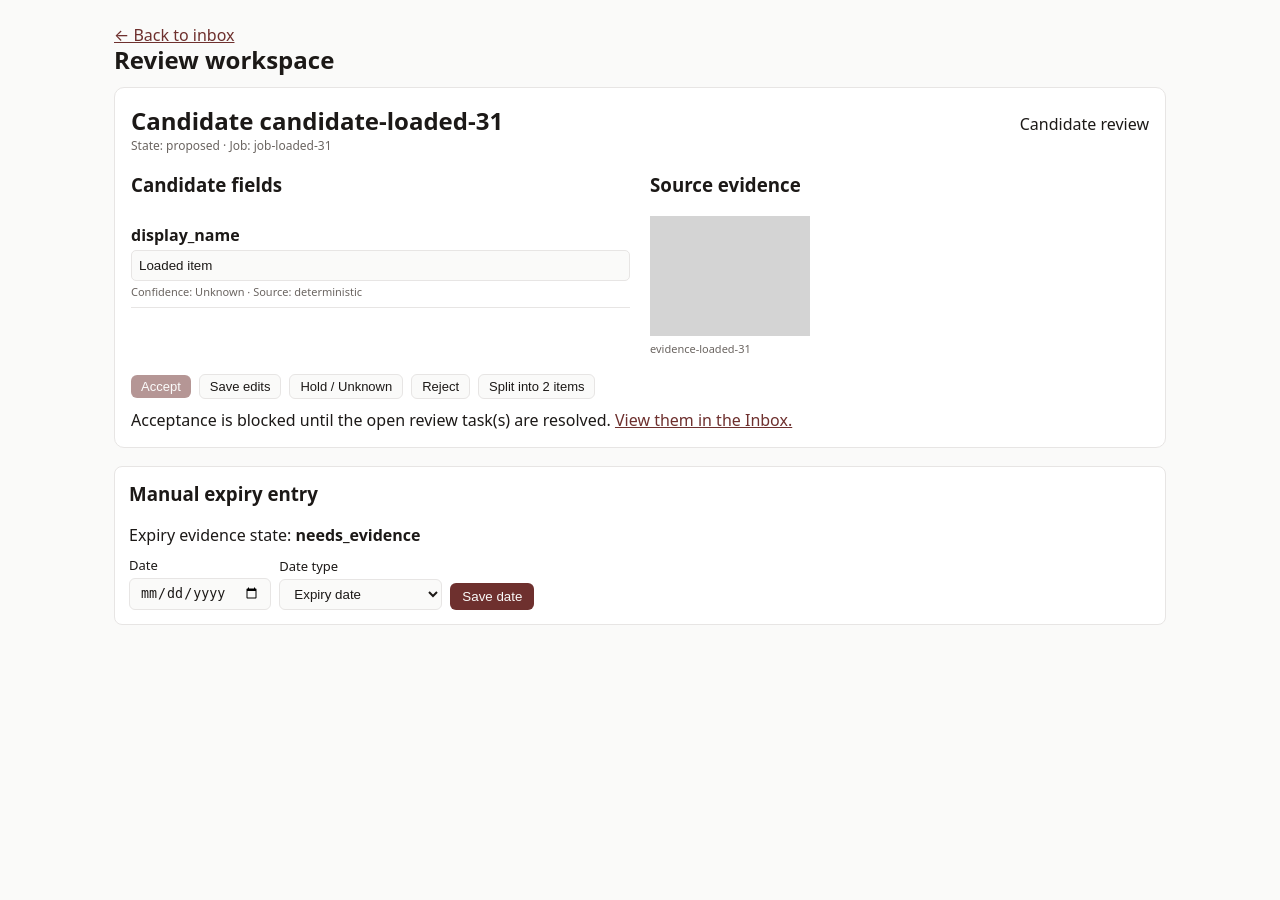
Test case: ReviewPage › multi-item task reveals the split action and presents the children after split
Expected: the field showing "Loaded item" is shown, [131, 250, 630, 280]
Click the button "Split into 2 items" at (537, 386), box [478, 374, 596, 398]
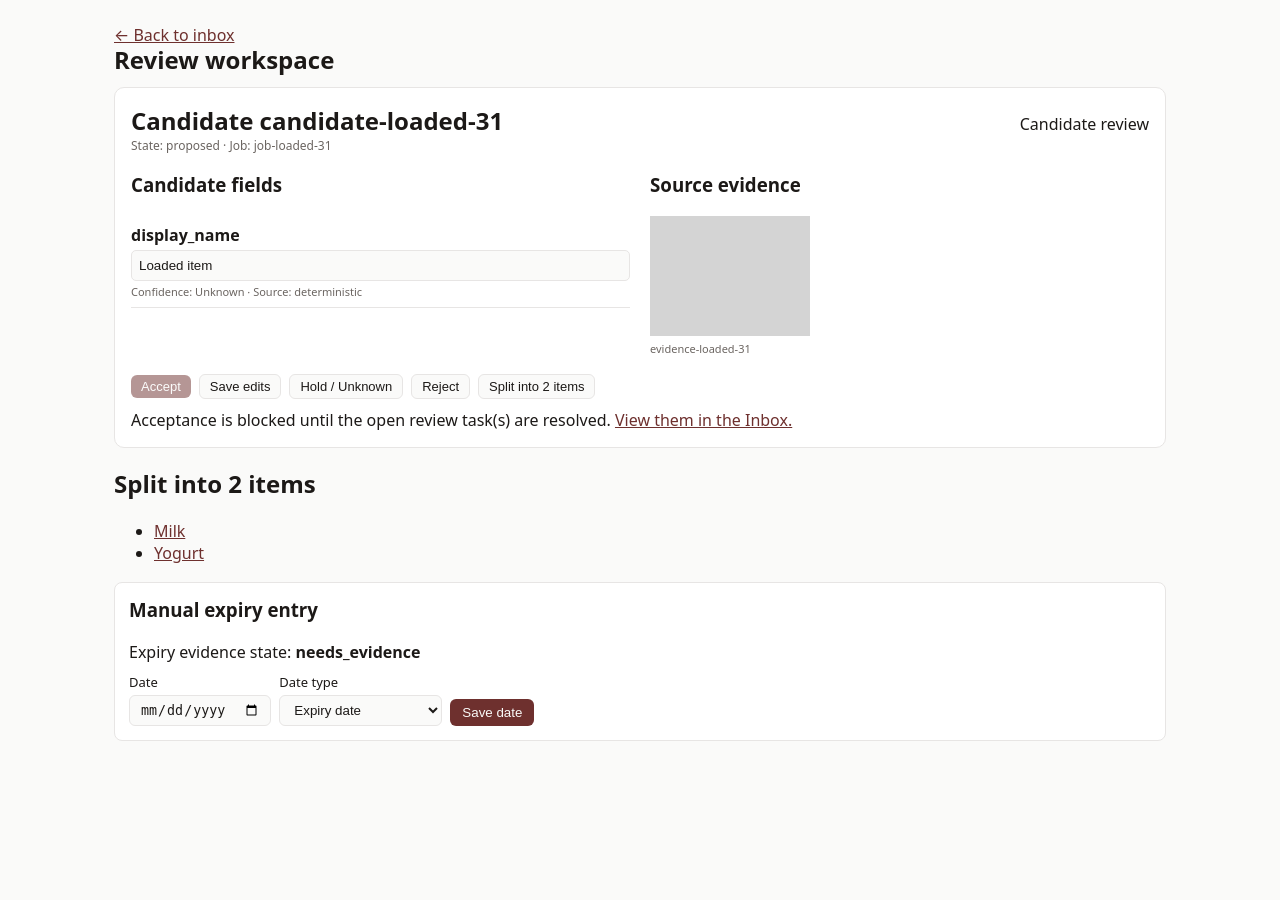
Result: the link "Yogurt" is shown at [154, 542, 204, 564]
